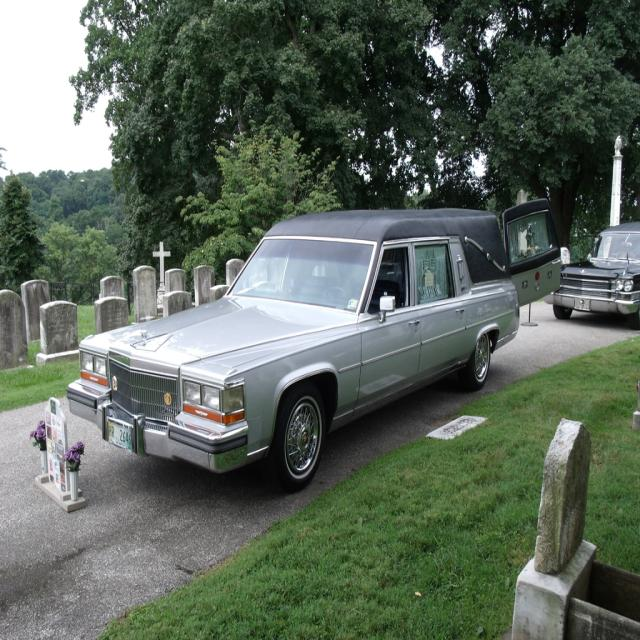car: (554, 225, 633, 324)
